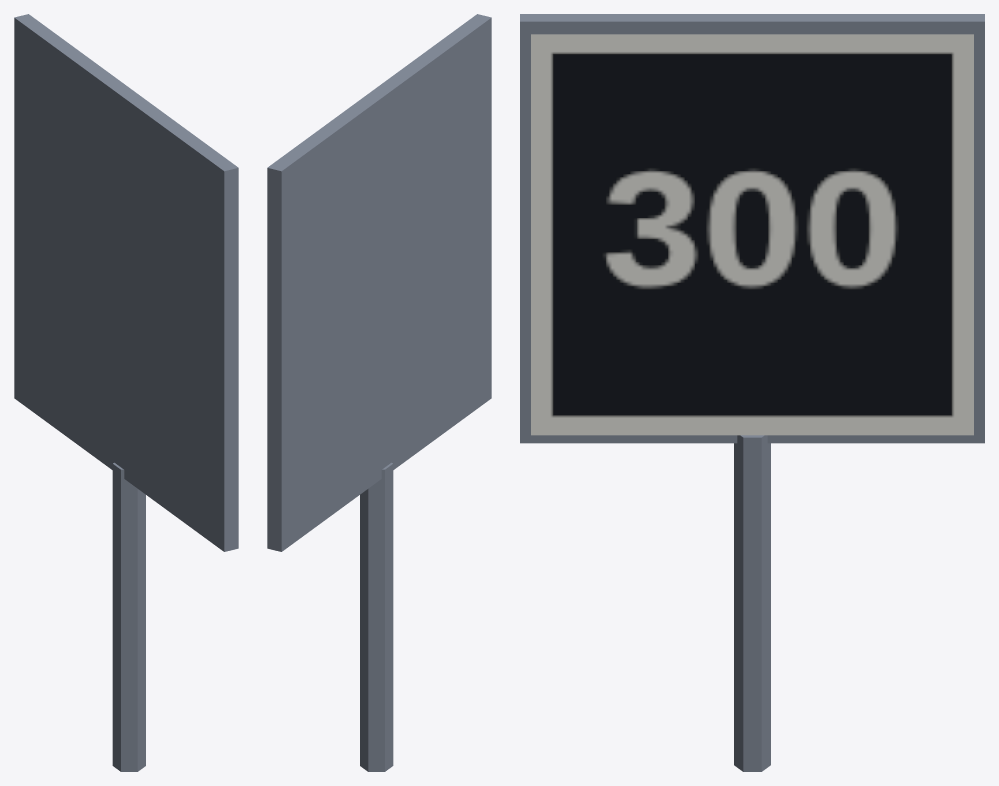
The model's file is distance_board_300.glb.
The picture shows the model from 3 angles, left to right: view 1: azimuth 30°, elevation 25°; view 2: azimuth 150°, elevation 25°; view 3: azimuth 270°, elevation 25°; orthographic projection. The views are drawn at different scales.
Visible parts, largest first — view 1: distboard; view 2: distboard; view 3: distboard.
Part boxes in pixels (<box>): distboard: <box>14,14,238,771</box>; distboard: <box>267,14,491,771</box>; distboard: <box>520,14,984,771</box>.
Size of the model in its own units: 0.0866 by 2.23 by 1.26.
Materials: 2 (1 with a texture image).
